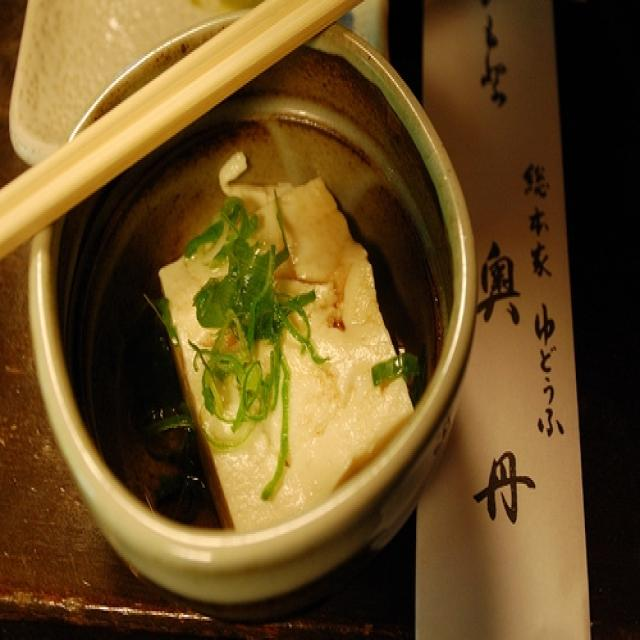豆腐料理: (18, 39, 481, 580)
